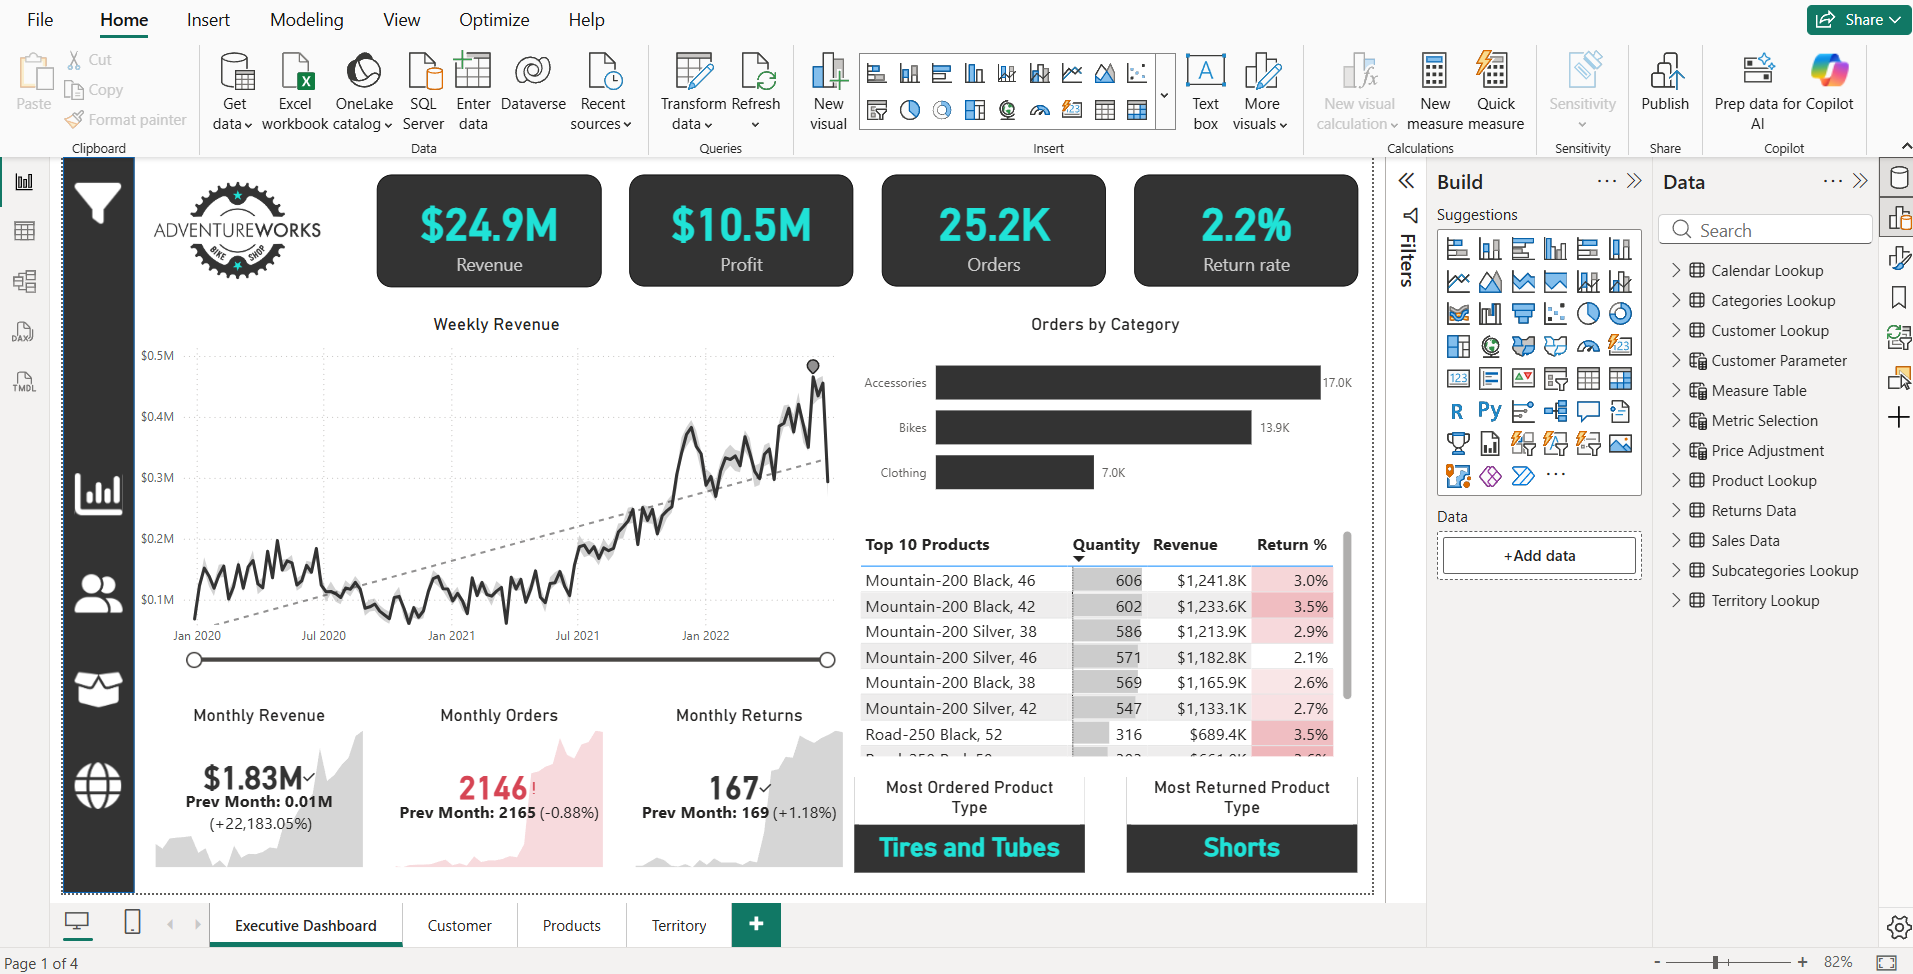

The dashboard page shown, as its layout file describes it:
{"tool":"powerbi","page":{"name":"Executive Dashboard","canvas":[1280,720],"ordinal":0},"visuals":[{"type":"shape","box":[0,0,70,720],"z":0},{"type":"actionButton","box":[7.5,301.2,55,58.8],"z":0,"group":"g1"},{"type":"card","fields":{"Values":["Measure Table.Total Sales"]},"box":[307.3,17.3,220,110],"z":1000},{"type":"actionButton","box":[7.5,398.7,55,56.2],"z":1000,"group":"g1"},{"type":"card","fields":{"Values":["Measure Table.Total Profit"]},"box":[554.5,17.3,219.3,109.6],"z":2000},{"type":"actionButton","box":[7.5,493.7,55,56.2],"z":2000,"group":"g1"},{"type":"card","fields":{"Values":["Measure Table.Total Orders"]},"box":[800.9,17.3,219.3,109.6],"z":3000},{"type":"actionButton","box":[7.5,588.7,55,53.8],"z":3000,"group":"g1"},{"type":"actionButton","box":[7.5,18.8,55,53.8],"z":4000},{"type":"card","fields":{"Values":["Measure Table.Return rate"]},"box":[1047.4,17.3,219.3,109.6],"z":5000},{"type":"image","box":[70.4,17.3,200,110],"z":6000},{"type":"clusteredBarChart","title":"Orders by Category","fields":{"Y":["Measure Table.Total Orders"],"Category":["Categories Lookup.CategoryName"]},"box":[774.2,153.2,491.9,196.8],"z":7000},{"type":"tableEx","fields":{"Values":["Product Lookup.ProductName","Measure Table.Quantity sold","Measure Table.Total Sales","Measure Table.Return rate"]},"box":[774.2,361.3,491.9,230.6],"z":8000},{"type":"card","title":"Most Ordered Product Type","fields":{"Values":["Min(Subcategories Lookup.SubcategoryName)"]},"box":[774.2,606.5,225.8,93.5],"z":9000},{"type":"card","title":"Most Returned Product Type","fields":{"Values":["Min(Subcategories Lookup.SubcategoryName)"]},"box":[1040.3,606.5,225.8,93.5],"z":10000},{"type":"lineChart","title":"Weekly Revenue","fields":{"Category":["Calendar Lookup.Start of Week.Variation.Date Hierarchy.Year","Calendar Lookup.Start of Week.Variation.Date Hierarchy.Quarter","Calendar Lookup.Start of Week.Variation.Date Hierarchy.Month","Calendar Lookup.Start of Week.Variation.Date Hierarchy.Day"],"Y":["Measure Table.Total Sales"]},"box":[71,153.2,706.5,350],"z":11000},{"type":"kpi","title":"Monthly Revenue","fields":{"Indicator":["Measure Table.Total Sales"],"TrendLine":["Calendar Lookup.Start of Month"],"Goal":["Measure Table.Previous Month Sales"]},"box":[85.5,535.5,212.9,164.5],"z":12000},{"type":"kpi","title":"Monthly Returns","fields":{"TrendLine":["Calendar Lookup.Start of Month"],"Indicator":["Measure Table.Return Quantity"],"Goal":["Measure Table.Previous Month Returns"]},"box":[554.8,535.5,212.9,164.5],"z":13000},{"type":"kpi","title":"Monthly Orders","fields":{"TrendLine":["Calendar Lookup.Start of Month"],"Indicator":["Measure Table.Total Orders"],"Goal":["Measure Table.Previous Month Orders"]},"box":[320.2,535.5,212.9,164.5],"z":14000},{"type":"group","id":"g1","title":"Group 1","box":[7.5,301.2,55,341.2],"z":15000}]}

Visuals, with their boxes on the page's 1280x720 design canvas (x1, y1, x2, y2). These are canvas units, not pixel positions in the 1913x974 screenshot, which may show the page scaled, cropped or inside an application window:
shape: <box>0,0,70,720</box>
actionButton: <box>8,301,62,360</box>
card - Measure Table.Total Sales: <box>307,17,527,127</box>
actionButton: <box>8,399,62,455</box>
card - Measure Table.Total Profit: <box>554,17,774,127</box>
actionButton: <box>8,494,62,550</box>
card - Measure Table.Total Orders: <box>801,17,1020,127</box>
actionButton: <box>8,589,62,642</box>
actionButton: <box>8,19,62,73</box>
card - Measure Table.Return rate: <box>1047,17,1267,127</box>
image: <box>70,17,270,127</box>
"Orders by Category" clusteredBarChart: <box>774,153,1266,350</box>
tableEx - Product Lookup.ProductName x Measure Table.Quantity sold: <box>774,361,1266,592</box>
"Most Ordered Product Type" card: <box>774,606,1000,700</box>
"Most Returned Product Type" card: <box>1040,606,1266,700</box>
"Weekly Revenue" lineChart: <box>71,153,778,503</box>
"Monthly Revenue" kpi: <box>86,536,298,700</box>
"Monthly Returns" kpi: <box>555,536,768,700</box>
"Monthly Orders" kpi: <box>320,536,533,700</box>
"Group 1" group: <box>8,301,62,642</box>
